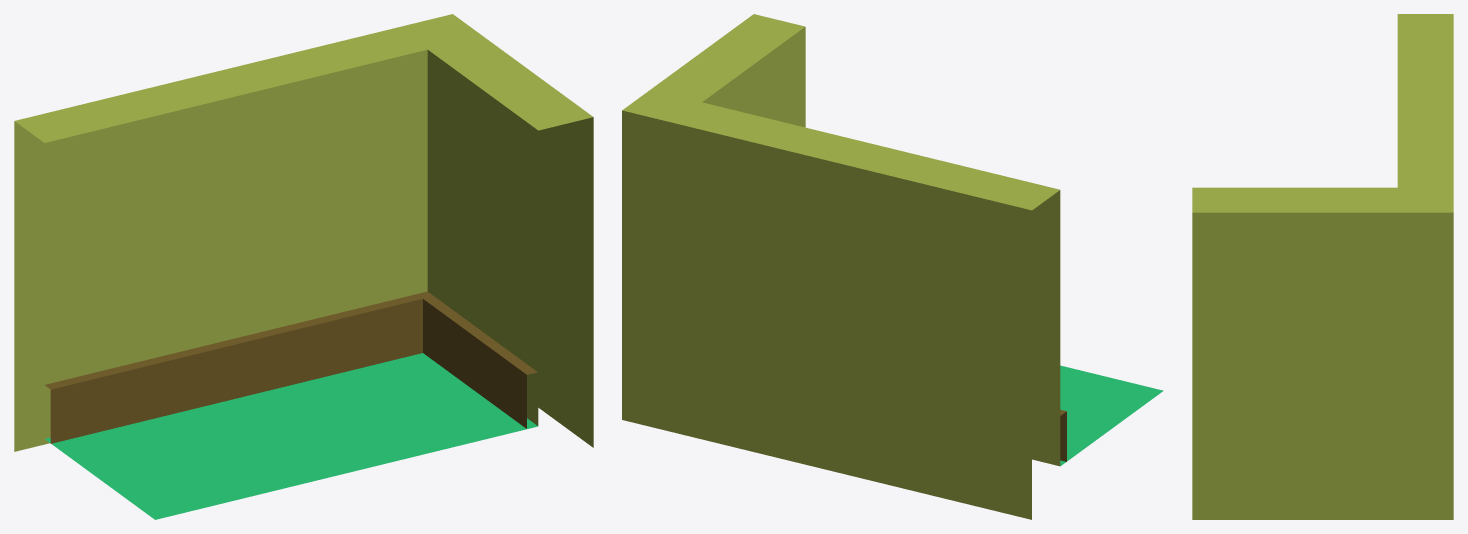
The model's file is ModuleSC_Terr_cornB_001.FBX.
3 views of the same model, side by side, from view 1: azimuth 30°, elevation 25°; view 2: azimuth 150°, elevation 25°; view 3: azimuth 270°, elevation 25° (orthographic). The views are drawn at different scales.
Parts seen in each view (by area): view 1: ModuleSC_Terr_wall_006, ModuleSC_Terr_floo_005, ModuleSC_Terr_skboard_006; view 2: ModuleSC_Terr_wall_006, ModuleSC_Terr_floo_005; view 3: ModuleSC_Terr_wall_006.
Boxes of the visible parts, left/top/right/bottom form: ModuleSC_Terr_wall_006: left=14, top=14, right=593, bottom=451; ModuleSC_Terr_floo_005: left=45, top=353, right=537, bottom=519; ModuleSC_Terr_skboard_006: left=45, top=291, right=537, bottom=443; ModuleSC_Terr_wall_006: left=622, top=14, right=1060, bottom=519; ModuleSC_Terr_floo_005: left=1060, top=365, right=1163, bottom=466; ModuleSC_Terr_wall_006: left=1192, top=14, right=1453, bottom=519.
Bounding box in the file's own units: 45.09 × 32.49 × 25.07.
